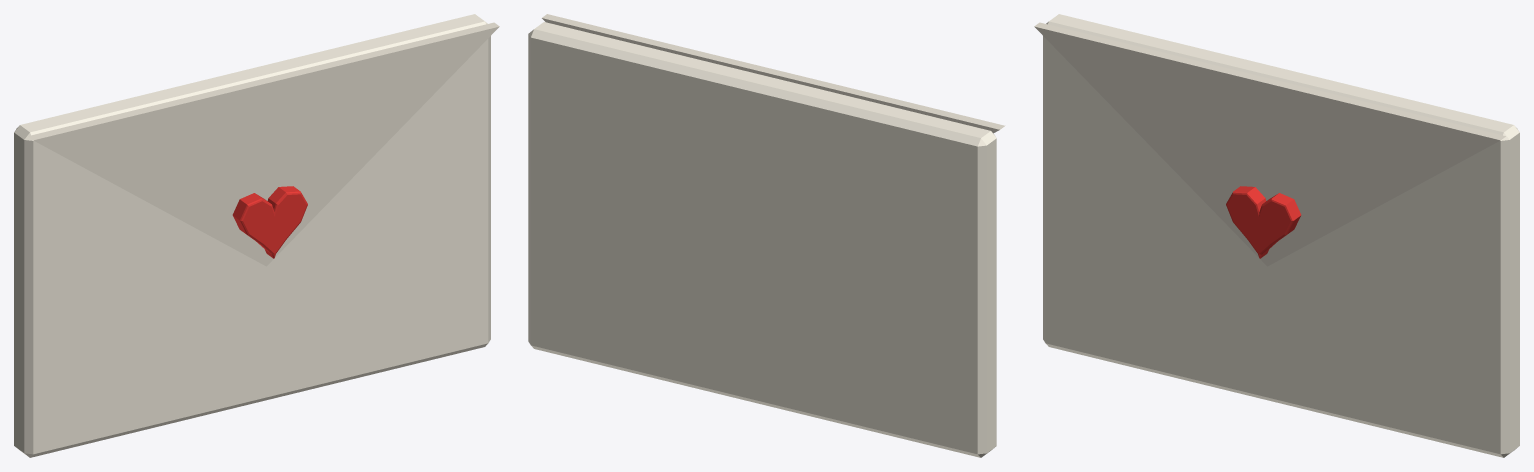
The model's file is LoveLetter.fbx.
3 renders of one model, left to right at view 1: azimuth 30°, elevation 25°; view 2: azimuth 150°, elevation 25°; view 3: azimuth 330°, elevation 25°, orthographic.
Parts seen in each view (by area): view 1: LoveLetter; view 2: LoveLetter; view 3: LoveLetter.
Part boxes in pixels (bbox=[...]): LoveLetter: bbox=[14, 14, 499, 457]; LoveLetter: bbox=[528, 14, 1005, 457]; LoveLetter: bbox=[1034, 14, 1519, 457].
Bounding box in the file's own units: 2.4 × 1.6 × 0.275.
Materials: 1 (1 with a texture image).
